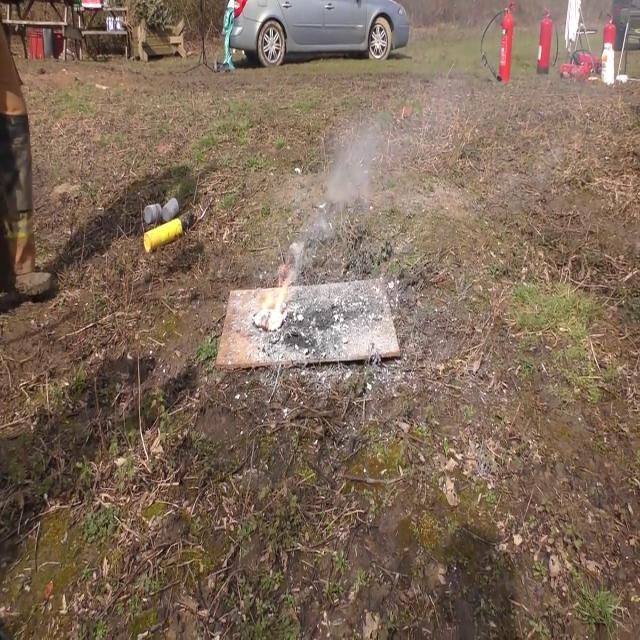Fire: (256, 272, 294, 332)
Smoke: (295, 116, 387, 262)
